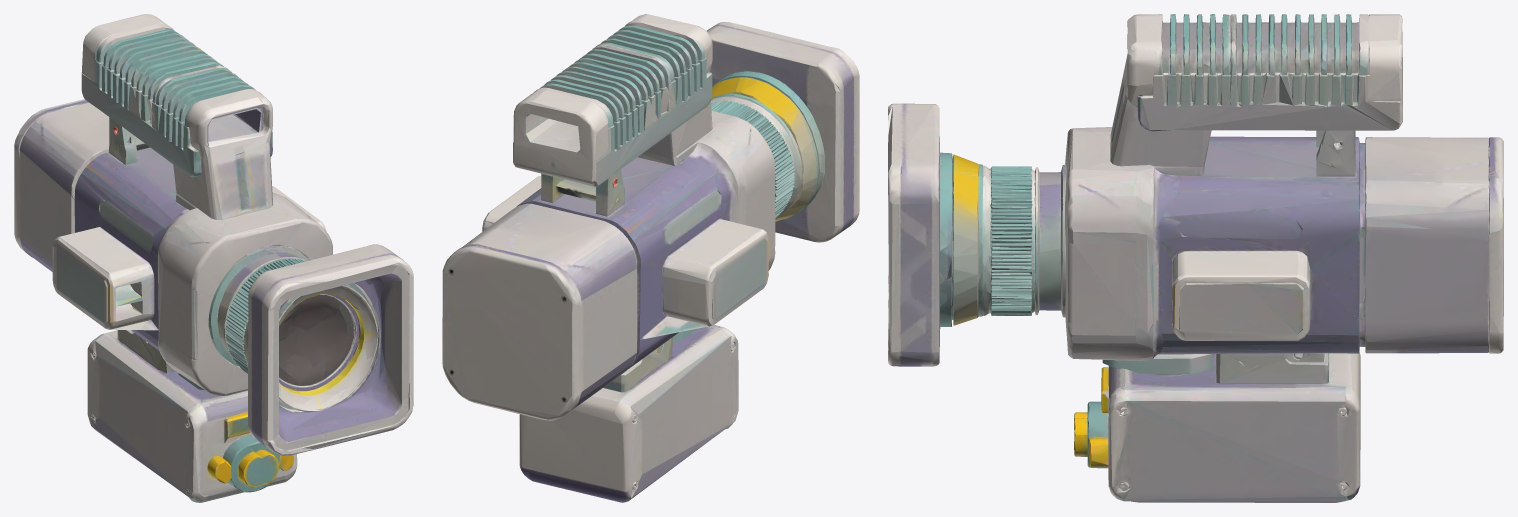
The model's file is camera-housing.gltf.
3 renders of one model, left to right at view 1: azimuth 30°, elevation 25°; view 2: azimuth 150°, elevation 25°; view 3: azimuth 270°, elevation 25°, orthographic. The views are drawn at different scales.
Bounding box in the file's own units: 0.9103 × 1.55 × 1.9.
1 material, 1 textured.
